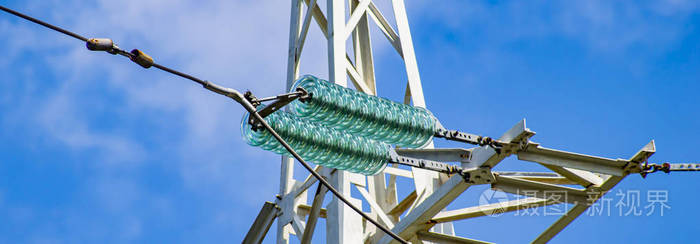insulator: (244, 103, 387, 176), (294, 76, 436, 149)
